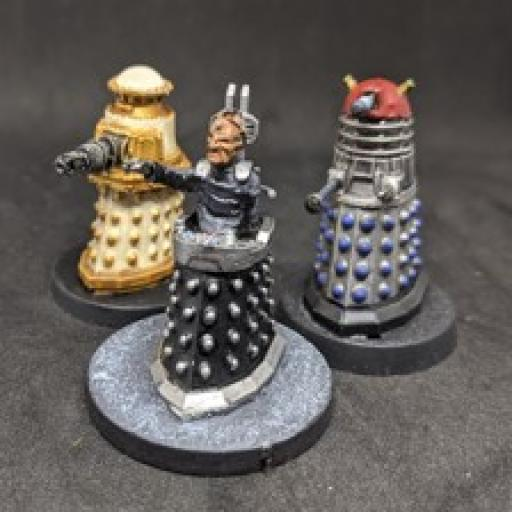dalek: (116, 84, 286, 425), (294, 72, 432, 338), (43, 60, 193, 294)
